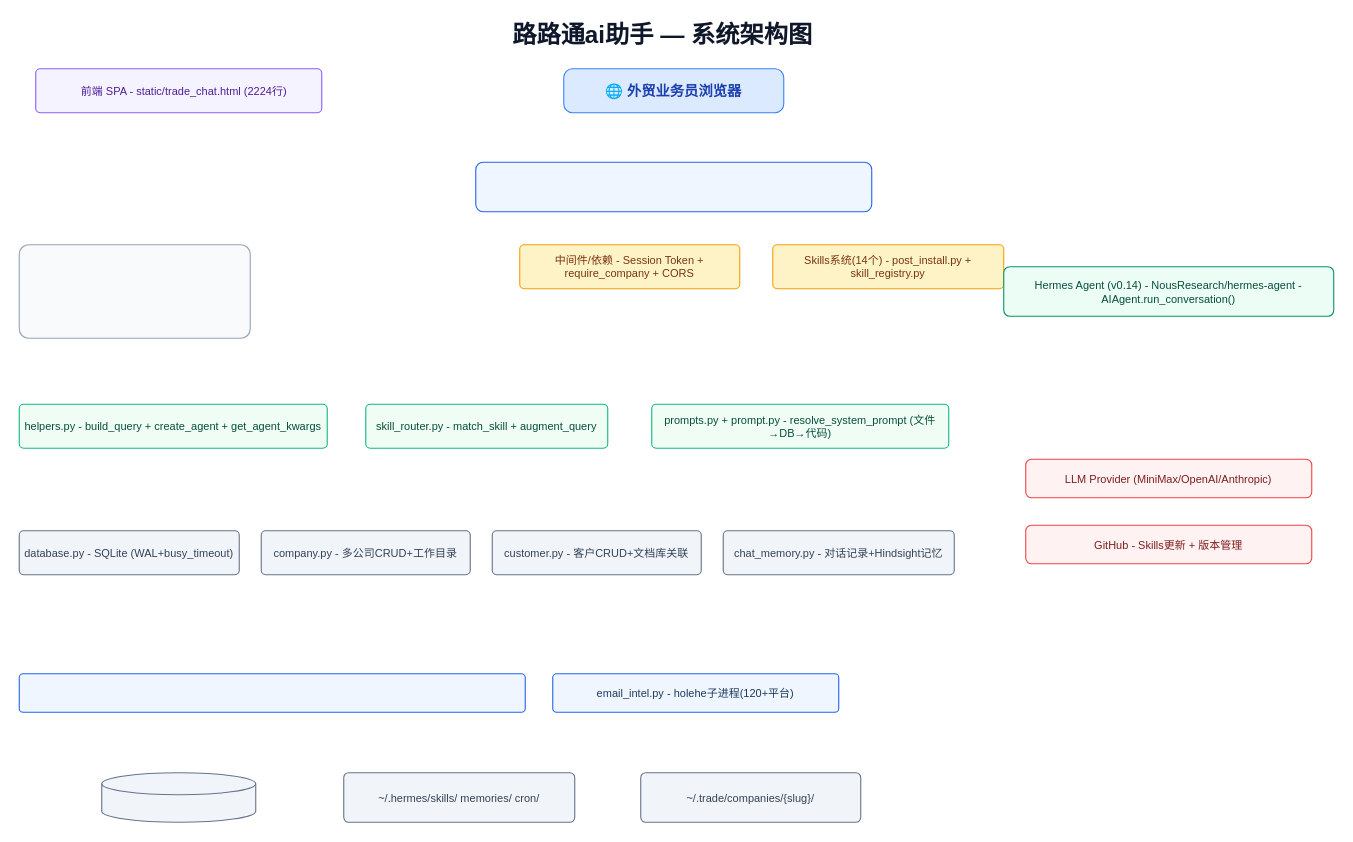
Image size: 1353x842. Some labels were removed from this diagram. The shapes that lost their labels are listed below. From the top down, each one's centre as x and y in pixels, then its label:
the point at 673,186: FastAPI Server (server.py)
the point at 134,291: API 路由 - /api/trade/*
the point at 271,692: trade/osint/ - 6层背调: orchestrator → whois/email/sanctions/tech/linkedin/scoring
the point at 178,797: ~/.trade/data/trade.db
